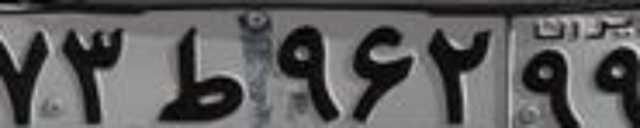2: (427, 26, 489, 124)
3: (59, 26, 132, 123)
6: (347, 26, 416, 121)
7: (0, 29, 46, 126)
9: (275, 24, 340, 123), (520, 48, 578, 127), (592, 45, 639, 127)
taa: (147, 24, 244, 123)
